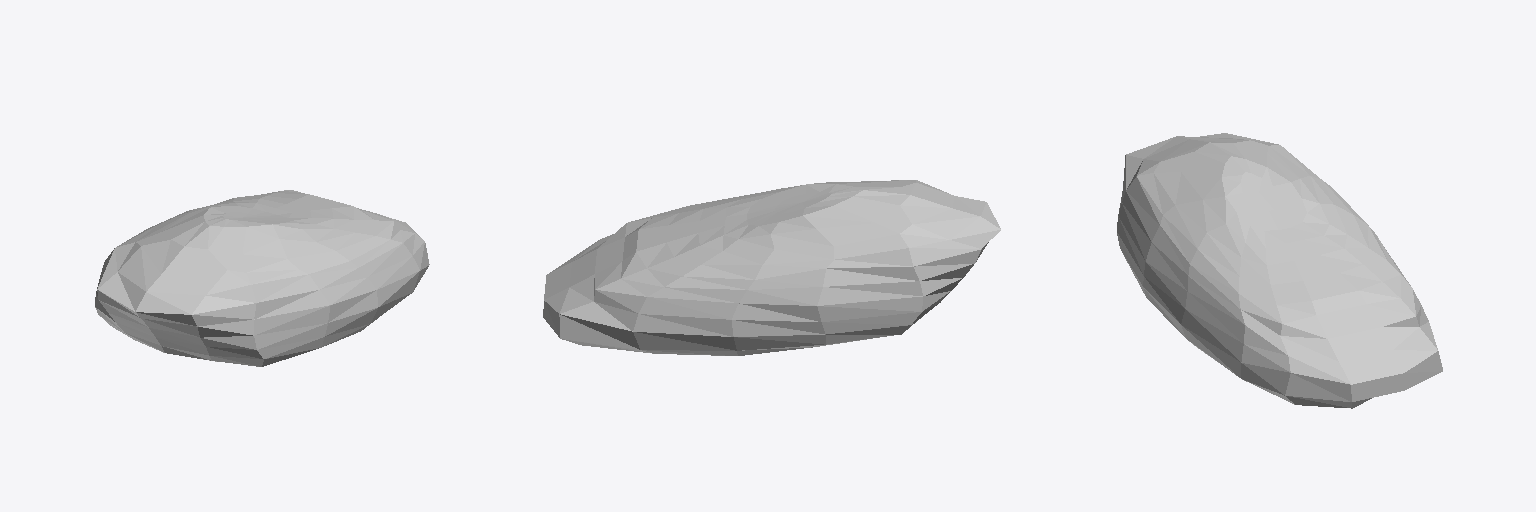
File: rock4.obj
3 renders of one model, left to right at view 1: azimuth 30°, elevation 25°; view 2: azimuth 150°, elevation 25°; view 3: azimuth 270°, elevation 25°, orthographic.
Visible parts, largest first — view 1: Sphere.001_Sphere; view 2: Sphere.001_Sphere; view 3: Sphere.001_Sphere.
Part boxes in pixels (left/top/right/bottom): Sphere.001_Sphere: left=95, top=190, right=429, bottom=366; Sphere.001_Sphere: left=543, top=180, right=1000, bottom=355; Sphere.001_Sphere: left=1117, top=133, right=1442, bottom=408.
Bounding box in the file's own units: 1.09 × 0.3645 × 0.8254.